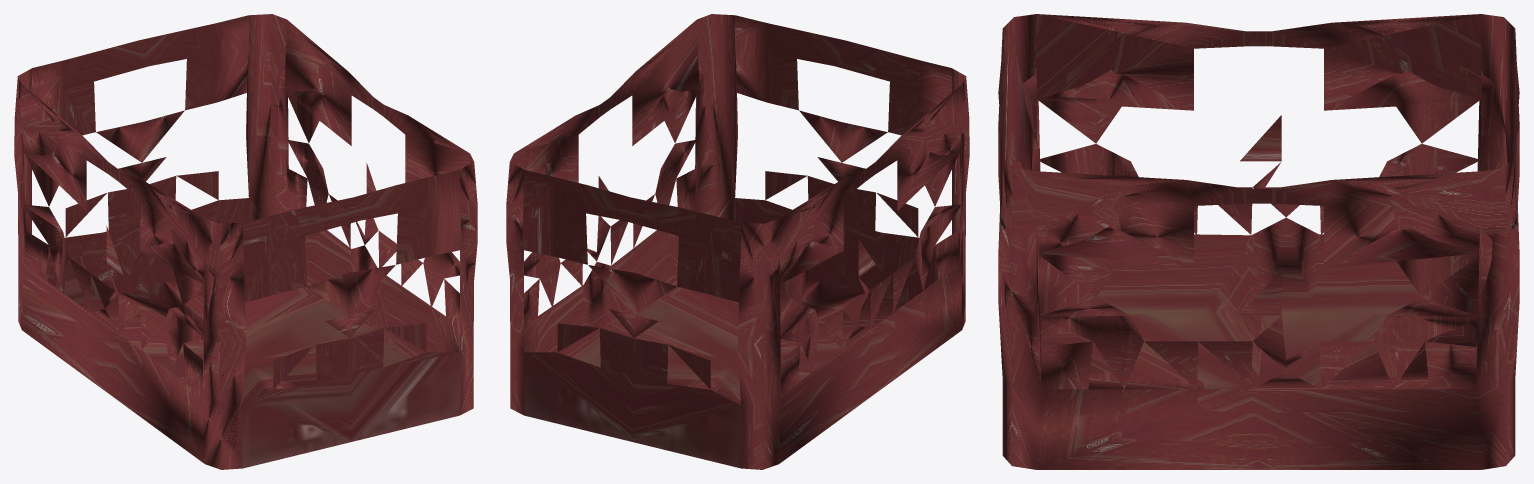
File: crate-plastic.lite.8d34ec06.glb
3 views of the same model, side by side, from view 1: azimuth 30°, elevation 25°; view 2: azimuth 150°, elevation 25°; view 3: azimuth 270°, elevation 25° (orthographic). The views are drawn at different scales.
Parts seen in each view (by area): view 1: model; view 2: model; view 3: model.
Boxes of the visible parts, bbox=[...] form: model: bbox=[14, 14, 477, 469]; model: bbox=[506, 14, 969, 469]; model: bbox=[998, 14, 1519, 469].
Size of the model in its own units: 0.2913 by 0.258 by 0.408.
Materials: 1 (1 with a texture image).
